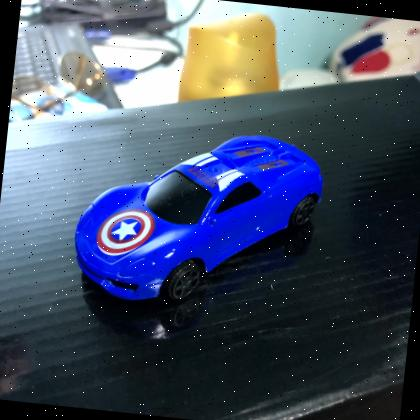Car: (64, 111, 340, 326)
